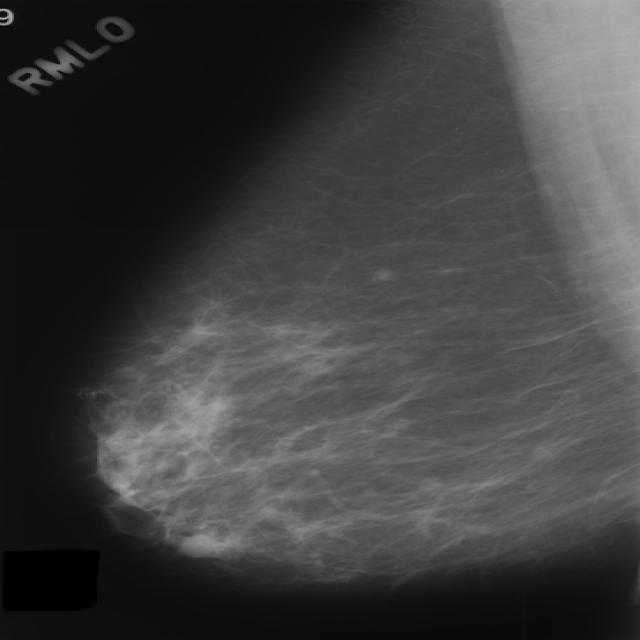tumour: (174, 531, 218, 557)
